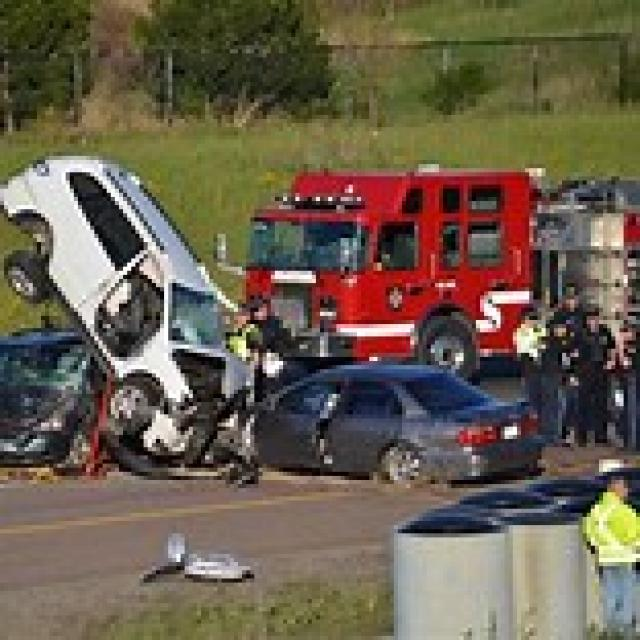Accident: (25, 96, 622, 530)
